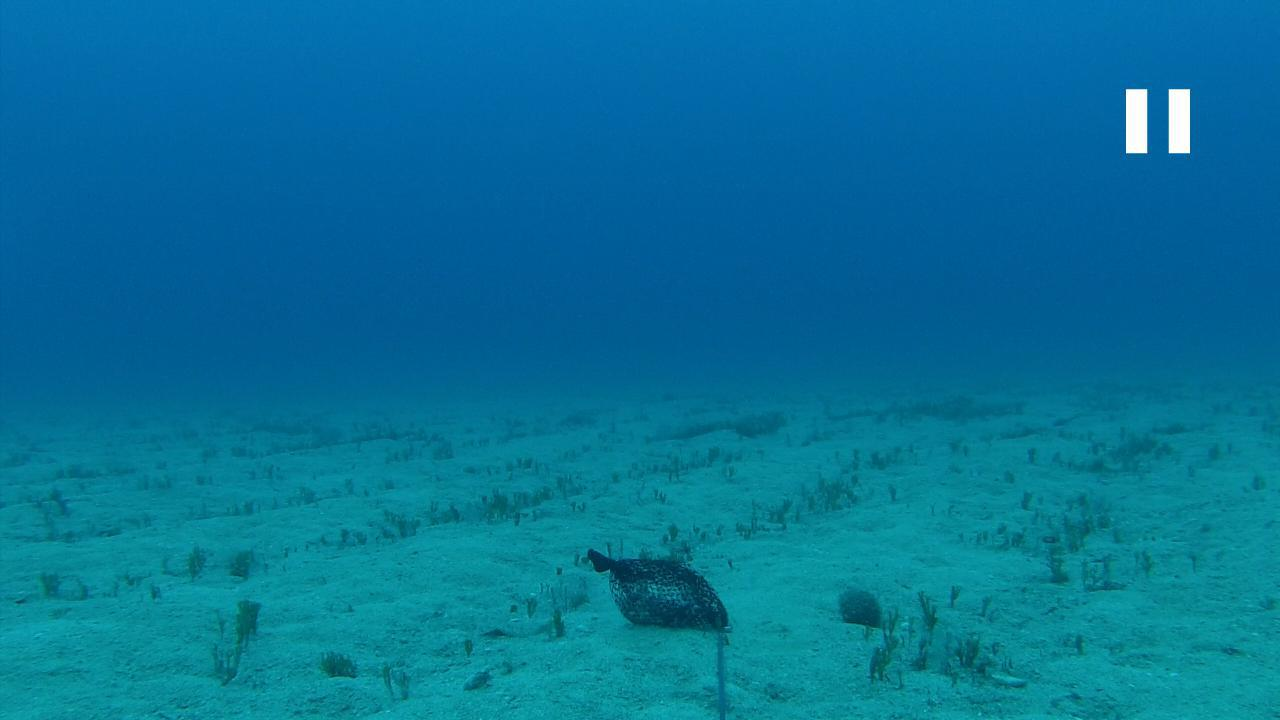bothus: (477, 613, 551, 636)
